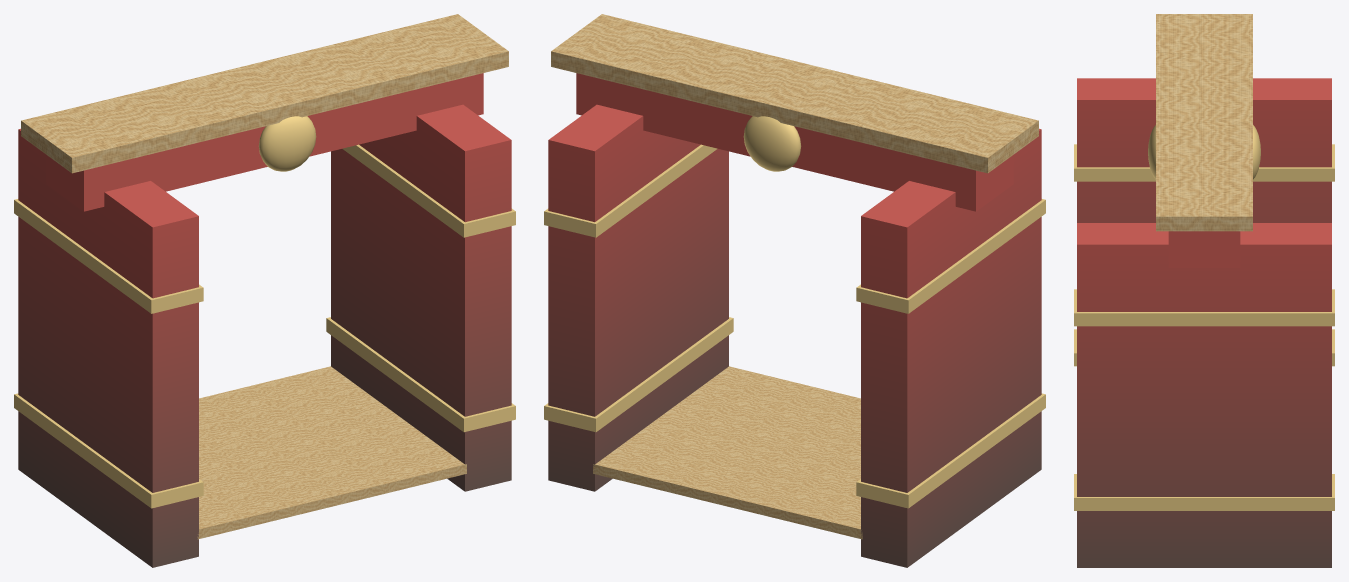
The model's file is ENV_Dimsum_DoorFrame.fbx.
3 views of the same model, side by side, from view 1: azimuth 30°, elevation 25°; view 2: azimuth 150°, elevation 25°; view 3: azimuth 270°, elevation 25° (orthographic). The views are drawn at different scales.
Visible parts, largest first — view 1: ENV_Dimsum_DoorFrame; view 2: ENV_Dimsum_DoorFrame; view 3: ENV_Dimsum_DoorFrame.
Part boxes in pixels (left/top/right/bottom): ENV_Dimsum_DoorFrame: left=14, top=14, right=515, bottom=567; ENV_Dimsum_DoorFrame: left=544, top=14, right=1045, bottom=567; ENV_Dimsum_DoorFrame: left=1074, top=14, right=1334, bottom=567.
Bounding box in the file's own units: 4.7 × 4 × 2.56.
